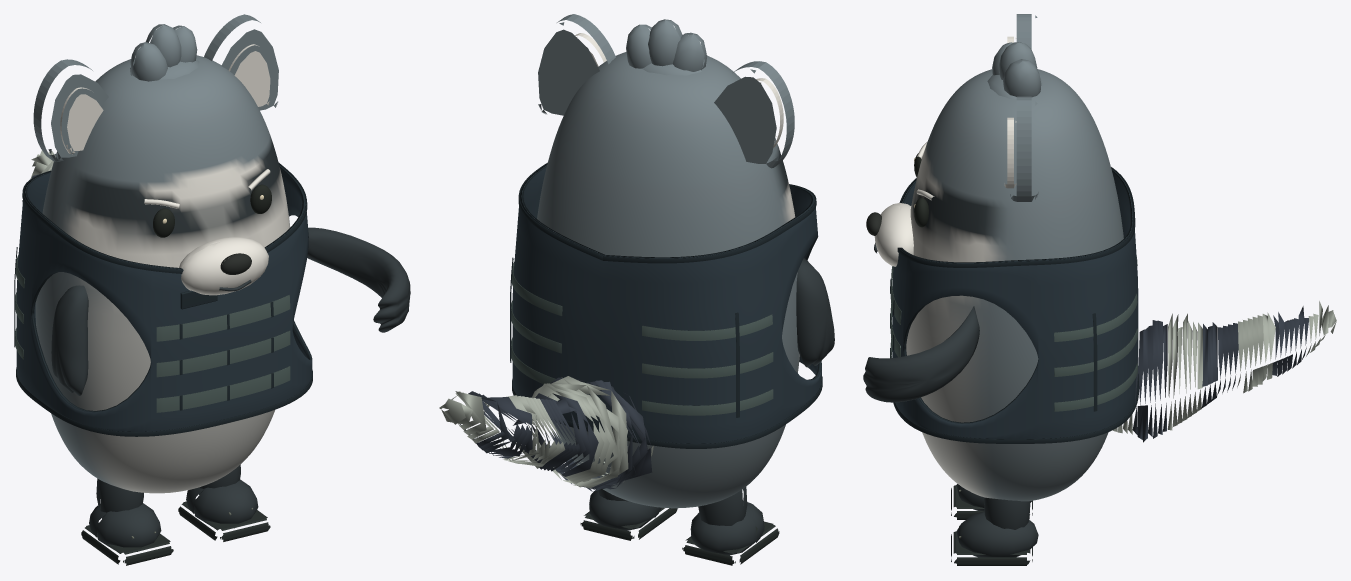
The model's file is species-grips-raccoon-ready-character.glb.
3 renders of one model, left to right at view 1: azimuth 30°, elevation 25°; view 2: azimuth 150°, elevation 25°; view 3: azimuth 270°, elevation 25°, orthographic. The views are drawn at different scales.
Visible parts, largest first — view 1: raccoon_torso_mesh, raccoon_vest_refined_mesh, raccoon_rightArm_mesh, raccoon_leftFoot_mesh, raccoon_leftEar_mesh, raccoon_snout_mesh, raccoon_rightFoot_mesh, raccoon_rightEar_mesh, raccoon_leftArm_mesh, raccoon_crestShort_mesh, raccoon_leftEye_mesh, raccoon_rightEye_mesh; view 2: raccoon_vest_refined_mesh, raccoon_torso_mesh, raccoon_tail_mesh, raccoon_leftEar_mesh, raccoon_leftFoot_mesh, raccoon_rightEar_mesh, raccoon_crestShort_mesh, raccoon_leftArm_mesh, raccoon_rightFoot_mesh; view 3: raccoon_torso_mesh, raccoon_vest_refined_mesh, raccoon_tail_mesh, raccoon_rightArm_mesh, raccoon_rightFoot_mesh, raccoon_crestShort_mesh, raccoon_rightEar_mesh, raccoon_snout_mesh, raccoon_leftFoot_mesh.
Boxes of the visible parts, x1,y1,x2,y2 form: raccoon_torso_mesh: (35, 55, 290, 493); raccoon_vest_refined_mesh: (14, 163, 312, 436); raccoon_rightArm_mesh: (307, 227, 410, 332); raccoon_leftFoot_mesh: (81, 478, 173, 565); raccoon_leftEar_mesh: (33, 59, 108, 161); raccoon_snout_mesh: (179, 237, 268, 295); raccoon_rightFoot_mesh: (178, 464, 270, 541); raccoon_rightEar_mesh: (204, 14, 278, 110); raccoon_leftArm_mesh: (51, 285, 88, 395); raccoon_crestShort_mesh: (130, 24, 199, 81); raccoon_leftEye_mesh: (153, 208, 174, 237); raccoon_rightEye_mesh: (250, 184, 271, 213); raccoon_vest_refined_mesh: (510, 162, 822, 448); raccoon_torso_mesh: (537, 52, 799, 508); raccoon_tail_mesh: (439, 376, 653, 491); raccoon_leftEar_mesh: (714, 61, 794, 168); raccoon_leftFoot_mesh: (682, 487, 779, 565); raccoon_rightEar_mesh: (538, 14, 615, 115); raccoon_crestShort_mesh: (626, 19, 706, 75); raccoon_leftArm_mesh: (796, 257, 834, 367); raccoon_rightFoot_mesh: (580, 489, 677, 540); raccoon_torso_mesh: (906, 69, 1123, 501); raccoon_vest_refined_mesh: (890, 167, 1139, 443); raccoon_tail_mesh: (1112, 301, 1336, 442); raccoon_rightArm_mesh: (863, 306, 979, 402); raccoon_rightFoot_mesh: (951, 497, 1038, 565); raccoon_crestShort_mesh: (987, 42, 1042, 99); raccoon_rightEar_mesh: (1004, 96, 1038, 201); raccoon_snout_mesh: (866, 203, 913, 266); raccoon_leftFoot_mesh: (951, 484, 1032, 519).
Size of the model in its own units: 1.3 by 1.98 by 1.73.
